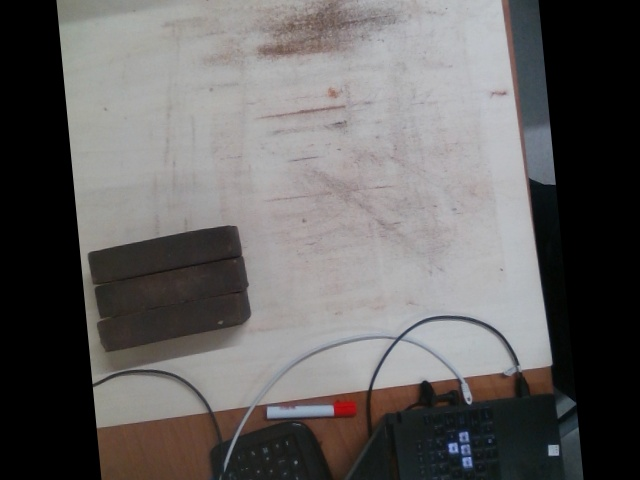brick-side: (90, 223, 233, 282), (96, 257, 239, 316), (98, 293, 241, 352)
